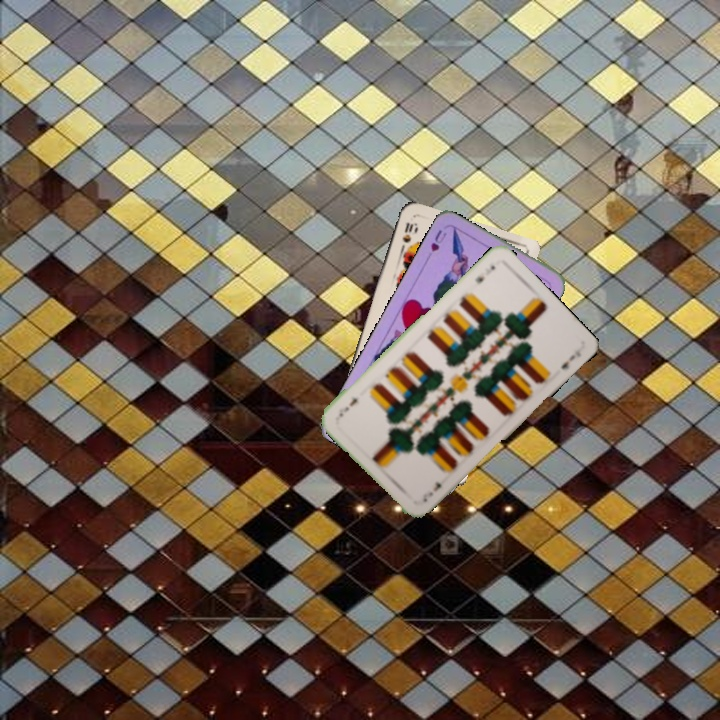E7: (471, 261, 498, 286), (419, 478, 444, 505)
HU: (426, 225, 450, 255)
S10: (396, 218, 418, 254)
